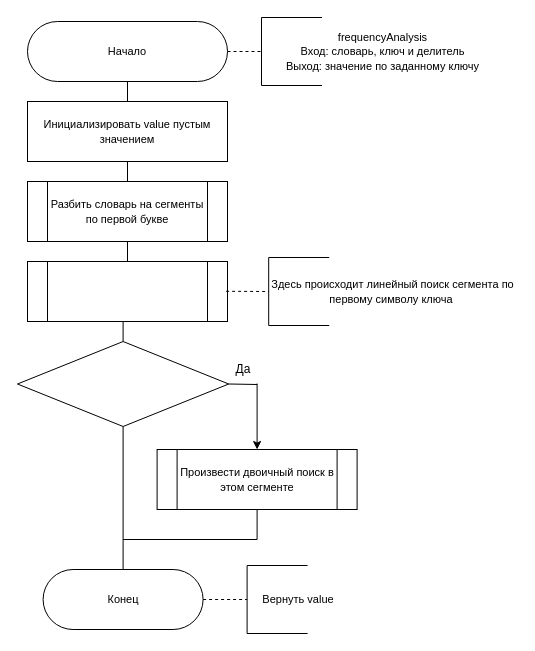
This 535x651 diagram has some shape labels left out. The box of each missing label's shape, as (x1, y1, x2, y2) in pixels:
Найти сегмент по первой букве входного ключа линейным поиском: (26, 260, 228, 322)
Первая буква ключа принадлежит какому-то сегменту?: (16, 340, 229, 426)
